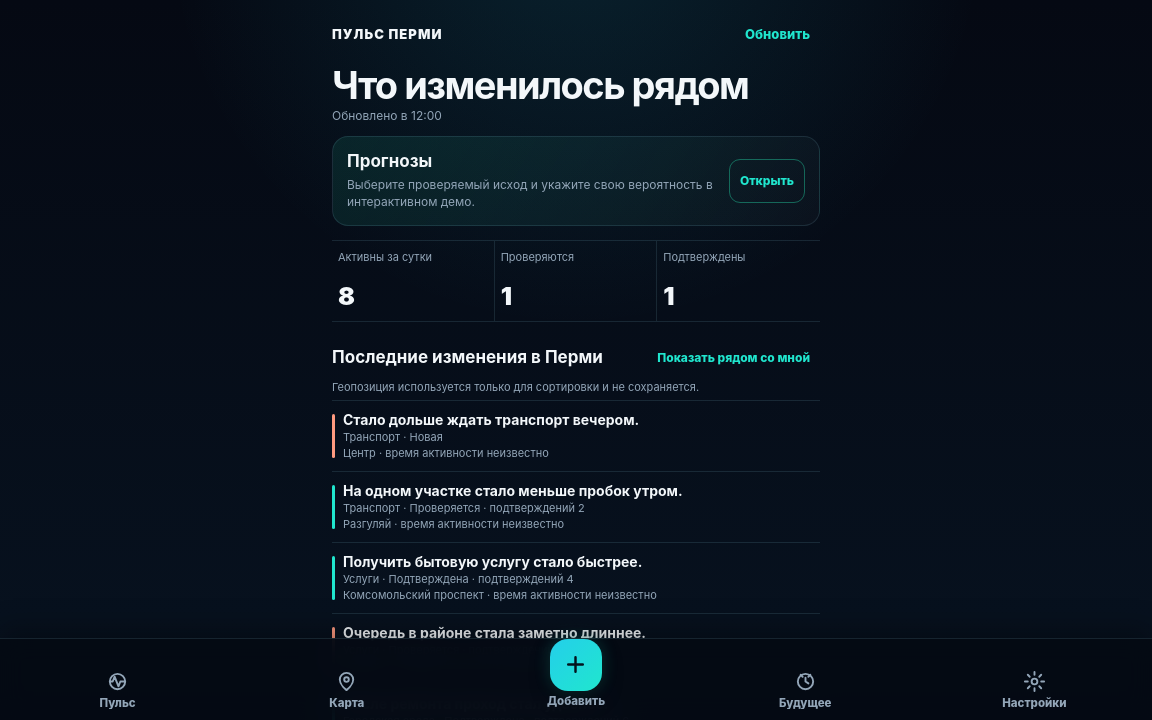
Test: MobilePulsePage › preserves the city feed for geolocation outside Perm
The width and height of the screenshot is (1152, 720).
Click the button "Показать рядом со мной".
click(734, 358)  # box [647,336,820,380]
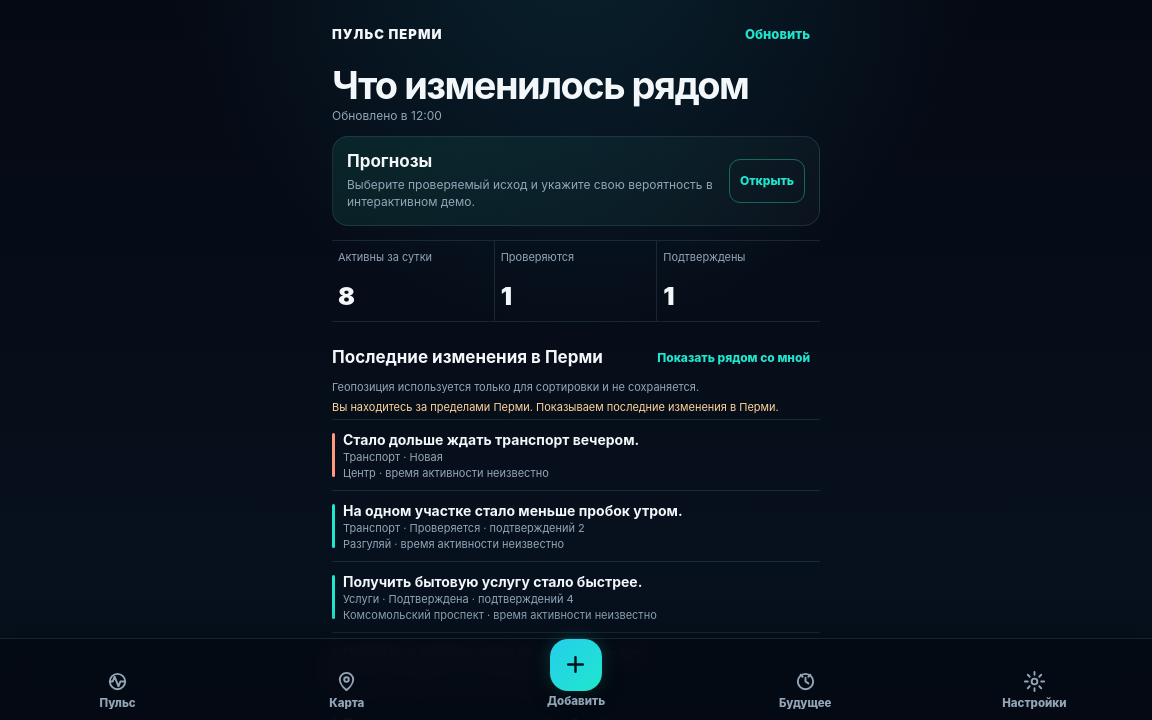
Expected: the text "Стало дольше ждать транспорт вечером." is shown, [343,431,639,448]
Expected: the text "Вы находитесь за пределами Перми. Показываем последние изменения в Перми." is shown, [332,400,820,414]
